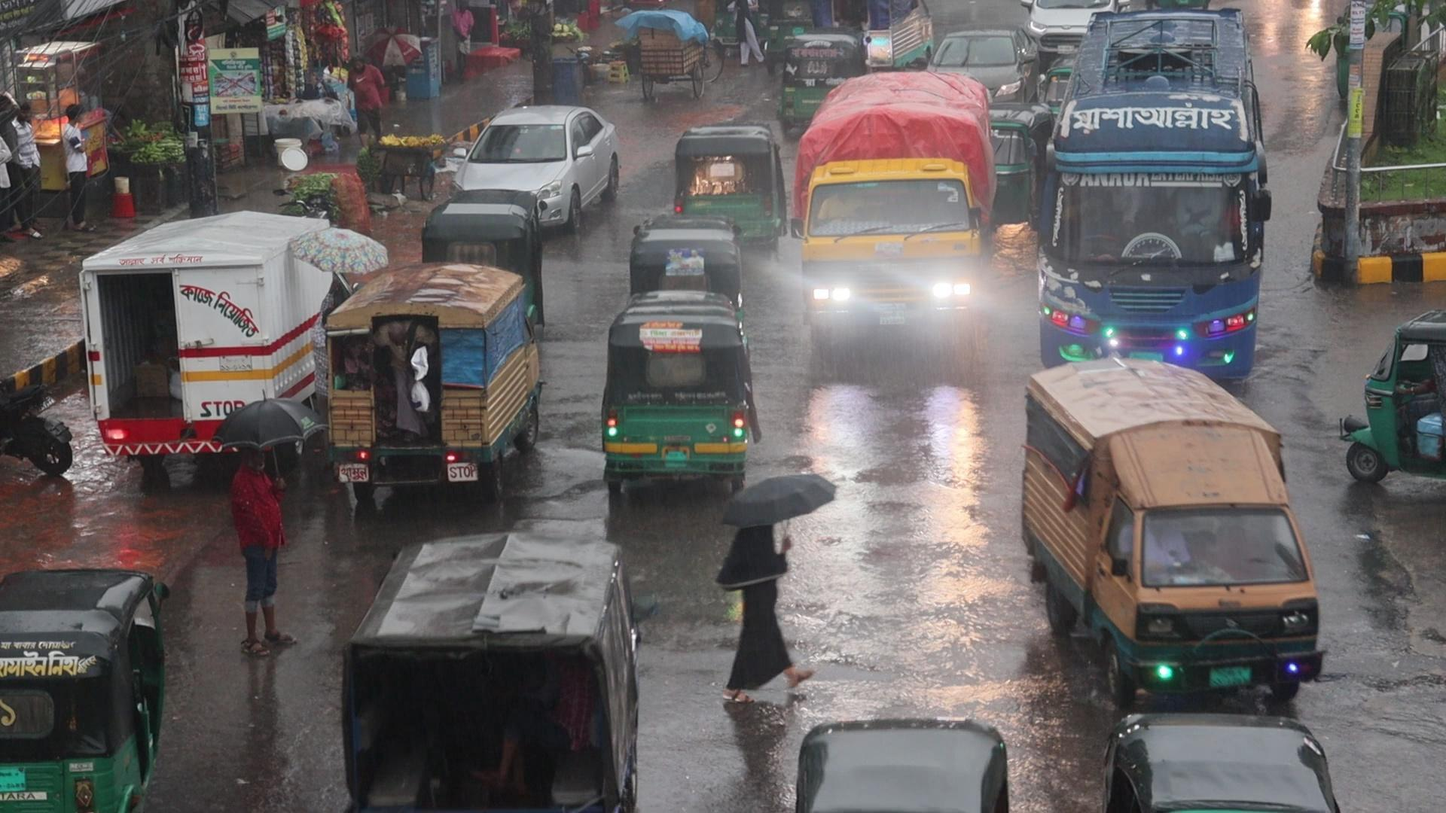Bus: (1032, 5, 1270, 370)
Truck: (1018, 346, 1321, 705), (332, 523, 641, 813), (787, 66, 994, 379), (320, 256, 546, 505)
